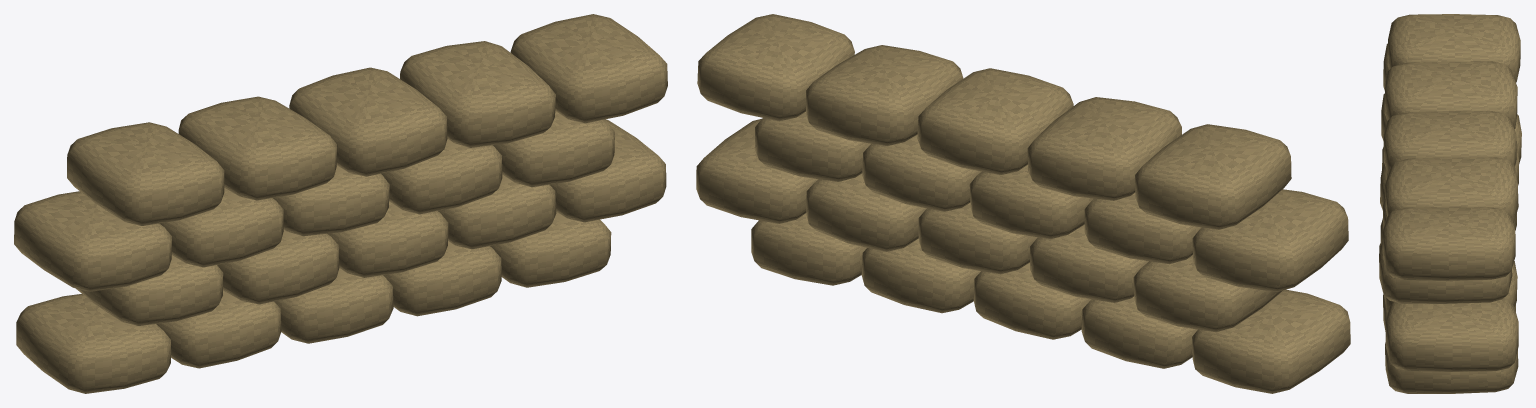
Rendered from sandbags.glb.
The picture shows the model from 3 angles, left to right: view 1: azimuth 30°, elevation 25°; view 2: azimuth 150°, elevation 25°; view 3: azimuth 270°, elevation 25°; orthographic projection. The views are drawn at different scales.
Visible parts, largest first — view 1: sandbags; view 2: sandbags; view 3: sandbags.
Boxes of the visible parts, left/top/right/bottom form: sandbags: left=14, top=14, right=667, bottom=393; sandbags: left=696, top=14, right=1350, bottom=393; sandbags: left=1379, top=14, right=1521, bottom=393.
Bounding box in the file's own units: 3.05 × 0.9982 × 0.7015.
1 material, 1 textured.
